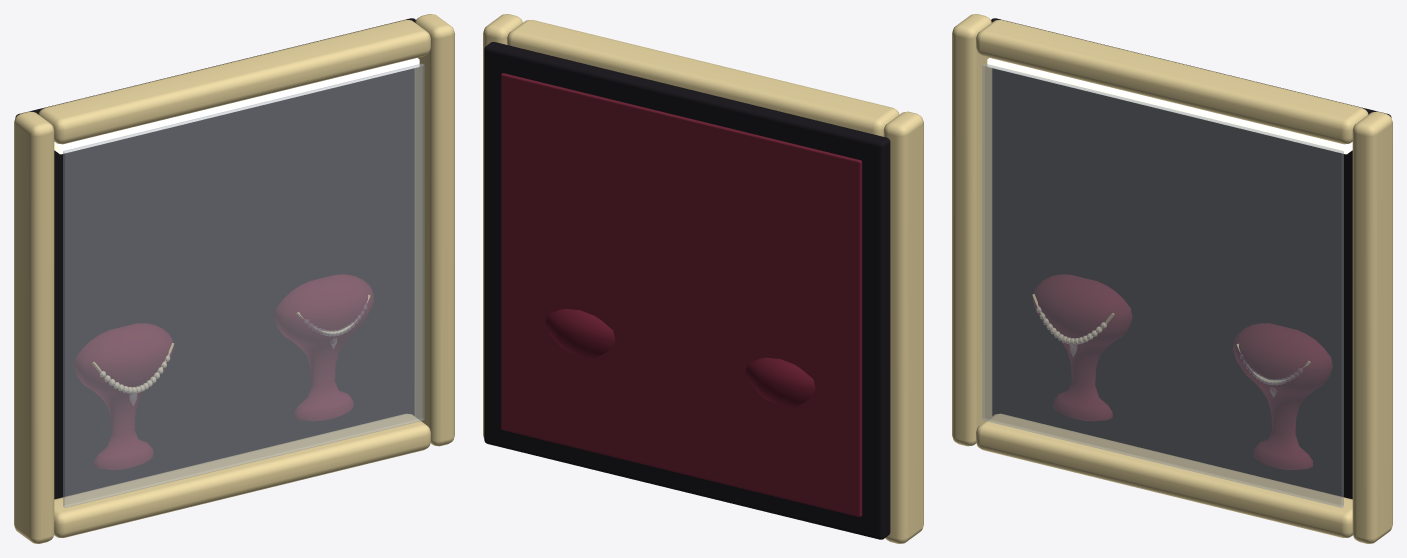
The model's file is wall_shadowbox_lit.glb.
3 views of the same model, side by side, from view 1: azimuth 30°, elevation 25°; view 2: azimuth 150°, elevation 25°; view 3: azimuth 330°, elevation 25° (orthographic).
Visible parts, largest first — view 1: wall_shadowbox_lit; view 2: wall_shadowbox_lit; view 3: wall_shadowbox_lit.
Part boxes in pixels (<box>): wall_shadowbox_lit: <box>14,14,454,543</box>; wall_shadowbox_lit: <box>483,14,923,543</box>; wall_shadowbox_lit: <box>952,14,1392,543</box>.
Size of the model in its own units: 1.06 by 1 by 0.1729.
